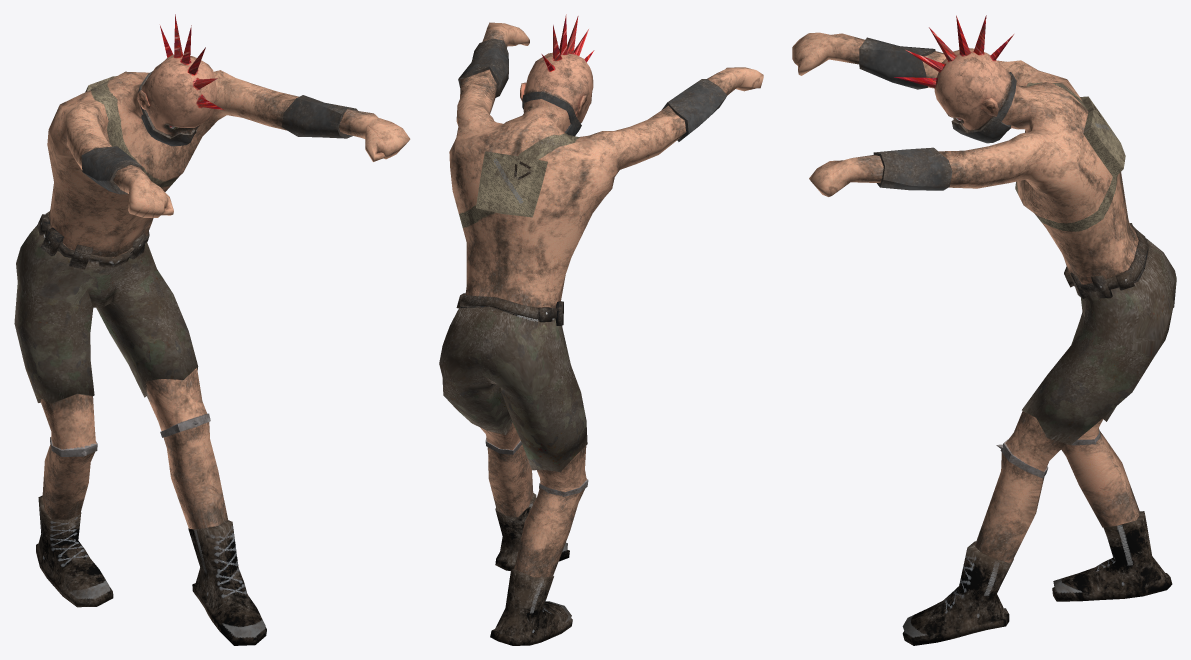
Rendered from Anim_ataque_d3_npc2.0045.obj.
3 renders of one model, left to right at view 1: azimuth 30°, elevation 25°; view 2: azimuth 150°, elevation 25°; view 3: azimuth 270°, elevation 25°, orthographic. The views are drawn at different scales.
Visible parts, largest first — view 1: polySurface1; view 2: polySurface1; view 3: polySurface1.
Part boxes in pixels (x1,y1,x2,y2): polySurface1: (14, 14, 410, 645); polySurface1: (439, 14, 763, 645); polySurface1: (792, 15, 1176, 645).
Bounding box in the file's own units: 4.52 × 9.12 × 5.23.
